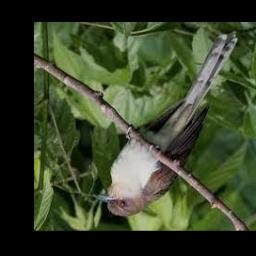Cuckoo: (94, 30, 238, 217)
